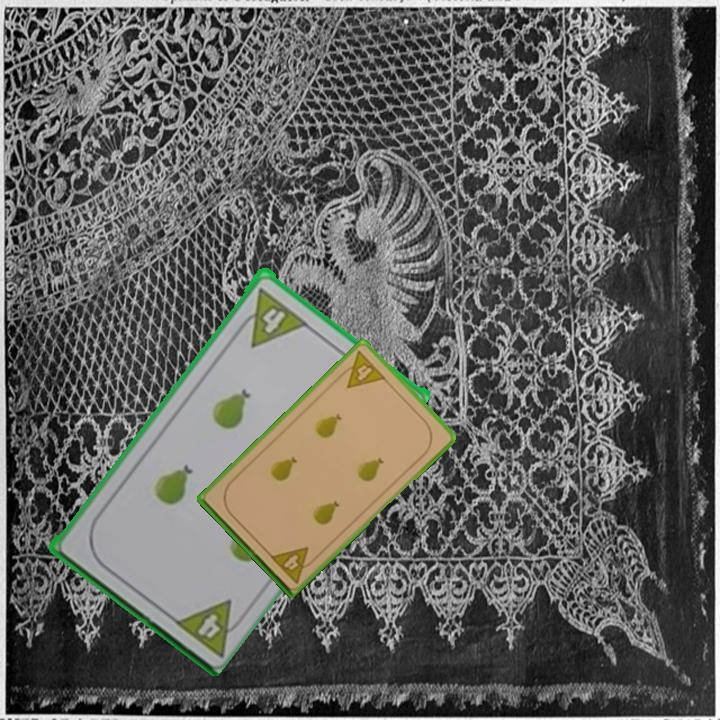4p: (169, 594, 251, 659), (232, 283, 309, 349), (334, 347, 389, 391), (266, 543, 319, 586)
